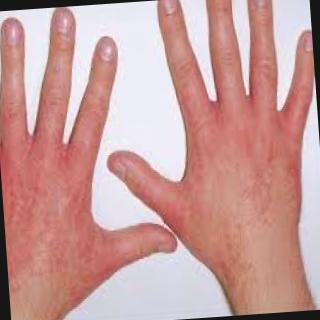urticaria: (3, 151, 90, 297), (196, 107, 294, 175), (237, 181, 294, 237), (152, 181, 215, 214), (97, 229, 132, 263), (96, 269, 106, 279)
